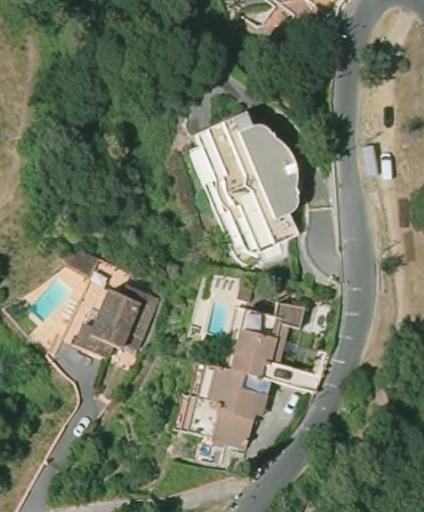pool: (31, 273, 76, 322), (201, 297, 236, 337)
